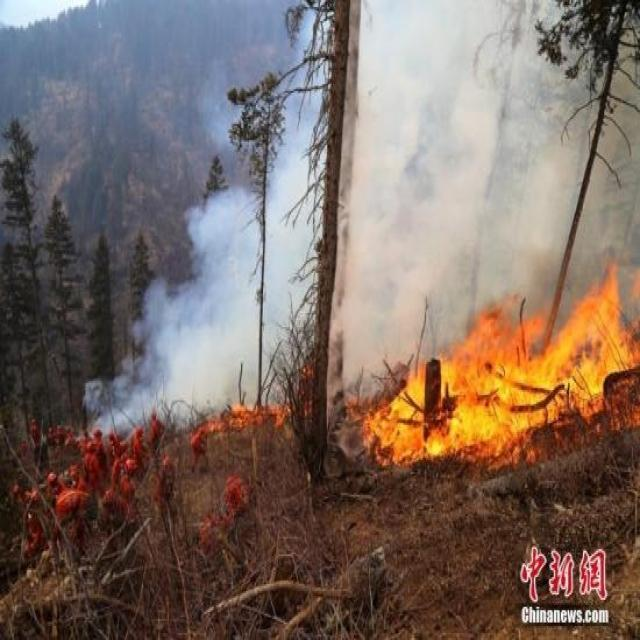Fire: (347, 258, 640, 478), (188, 397, 292, 448)
Smoke: (73, 1, 640, 456)
